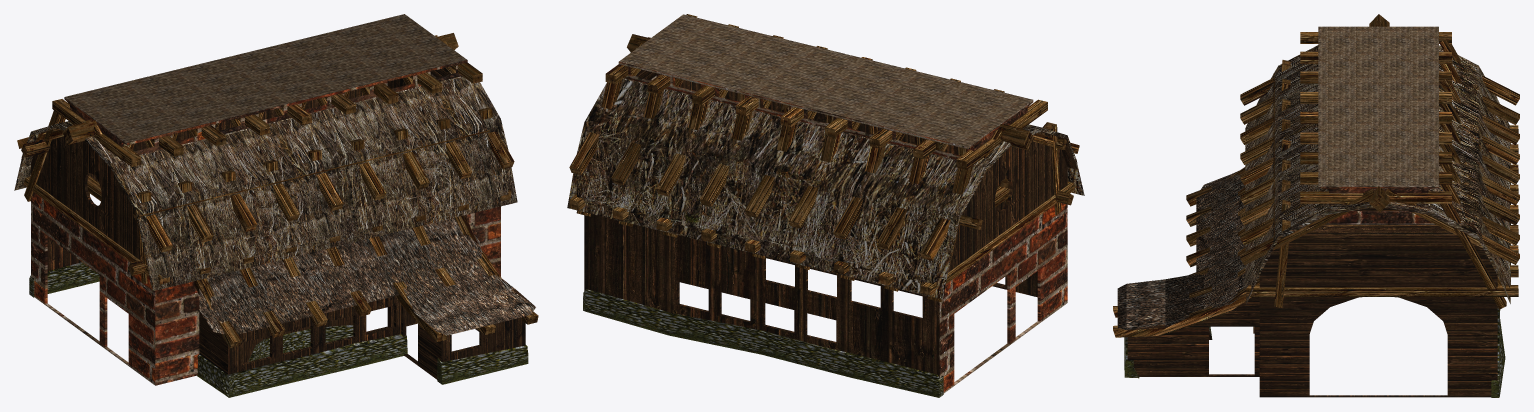
The model's file is scheune.obj.
3 views of the same model, side by side, from view 1: azimuth 30°, elevation 25°; view 2: azimuth 150°, elevation 25°; view 3: azimuth 270°, elevation 25° (orthographic). The views are drawn at different scales.
Visible parts, largest first — view 1: Object; view 2: Object; view 3: Object.
Part boxes in pixels (x1,y1,x2,y2): Object: [14, 14, 538, 397]; Object: [567, 14, 1084, 397]; Object: [1113, 14, 1519, 397].
Size of the model in its own units: 611 by 334 by 582.
